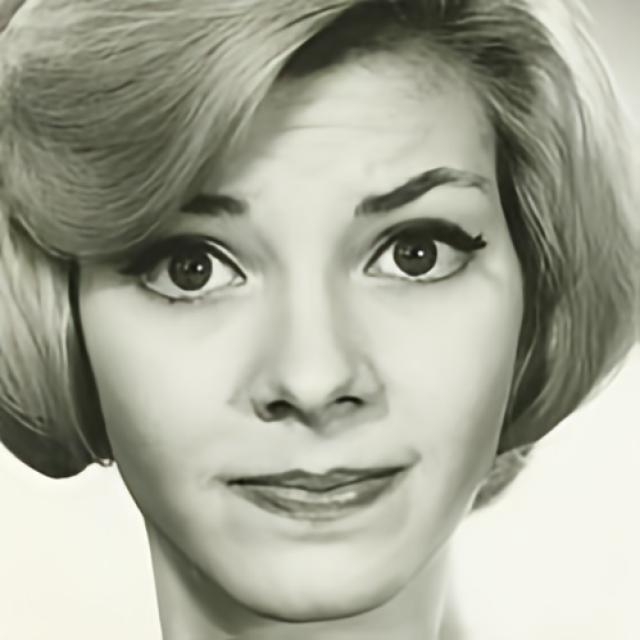surprise: (76, 34, 527, 626)
